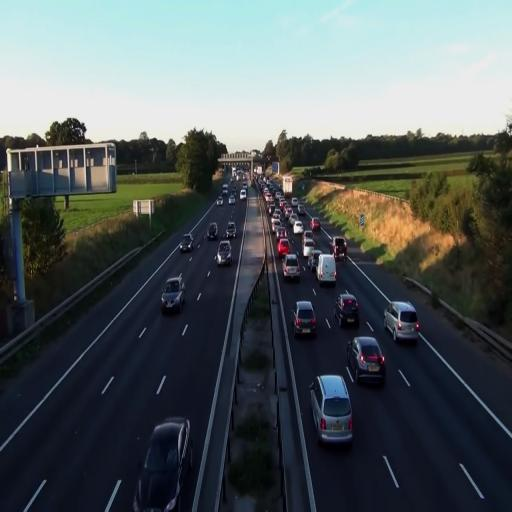vehicle: (134, 416, 192, 512), (308, 374, 354, 447), (346, 336, 386, 388), (384, 300, 420, 345), (160, 276, 186, 315), (293, 300, 317, 339), (335, 291, 360, 328), (316, 254, 337, 286), (282, 253, 301, 282), (216, 239, 233, 266), (180, 234, 194, 252), (226, 219, 236, 239), (208, 222, 218, 240), (180, 236, 190, 253)
